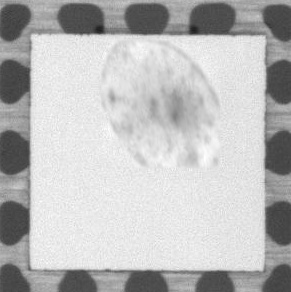DIE_INK: (96, 35, 223, 172)
